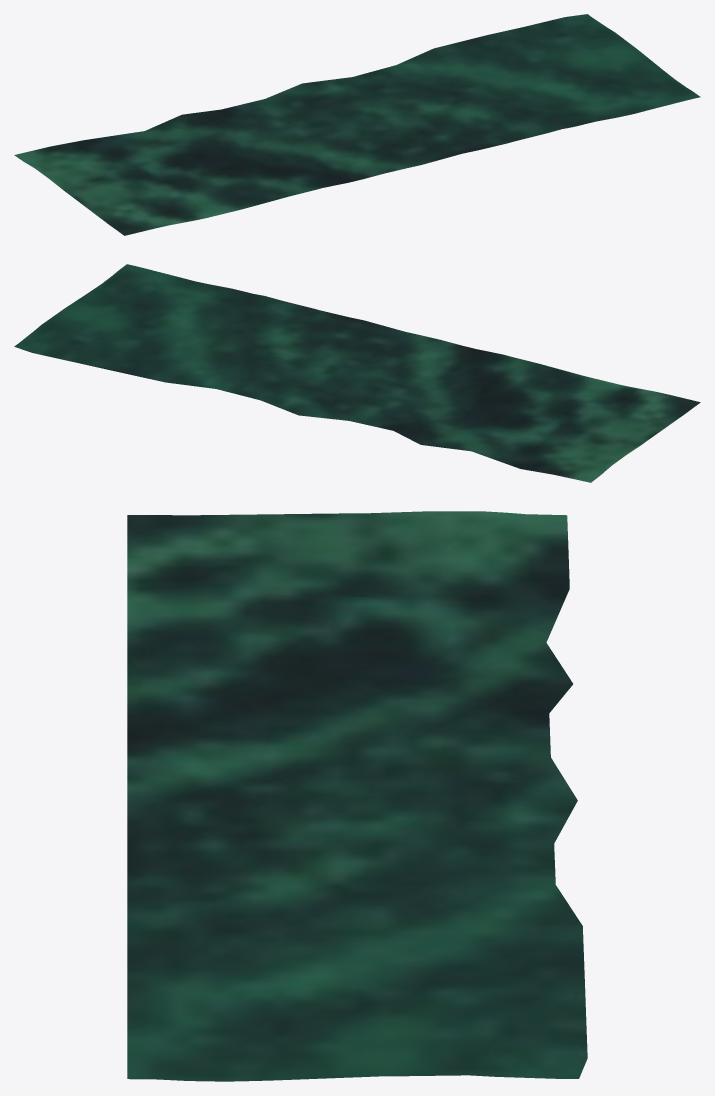
The picture shows the model from 3 angles, top to bottom: view 1: azimuth 30°, elevation 25°; view 2: azimuth 150°, elevation 25°; view 3: azimuth 270°, elevation 25°; orthographic projection. The views are drawn at different scales.
Bounding box in the file's own units: 52.22 × 0.4893 × 18.14.
Materials: 1 (1 with a texture image).
